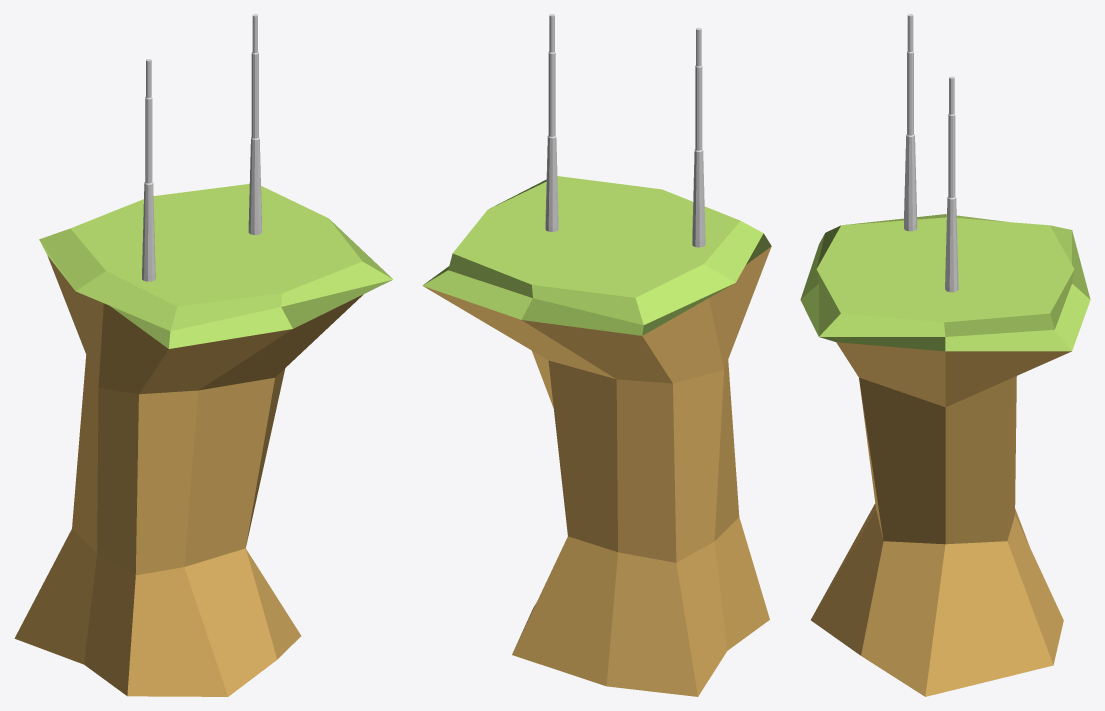
File: Side_Terrain_1.fbx
The picture shows the model from 3 angles, left to right: view 1: azimuth 30°, elevation 25°; view 2: azimuth 150°, elevation 25°; view 3: azimuth 270°, elevation 25°; orthographic projection. The views are drawn at different scales.
Visible parts, largest first — view 1: Side_Terrain_1; view 2: Side_Terrain_1; view 3: Side_Terrain_1.
Boxes of the visible parts, <box> form: Side_Terrain_1: <box>14,14,392,696</box>; Side_Terrain_1: <box>422,14,771,696</box>; Side_Terrain_1: <box>800,14,1090,696</box>.
Size of the model in its own units: 514 by 1151 by 500.
